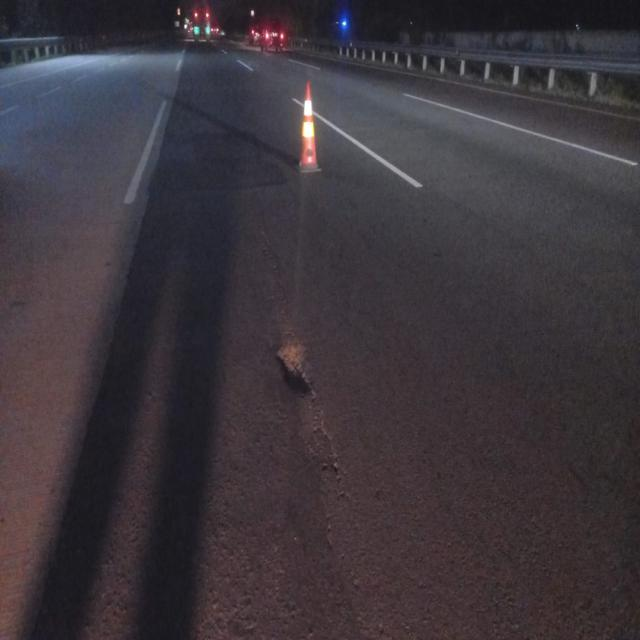Buraco: (269, 328, 320, 402)
